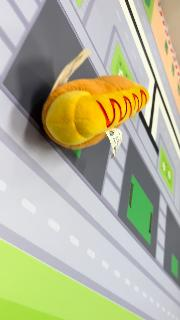hotdog: (41, 48, 151, 154)
